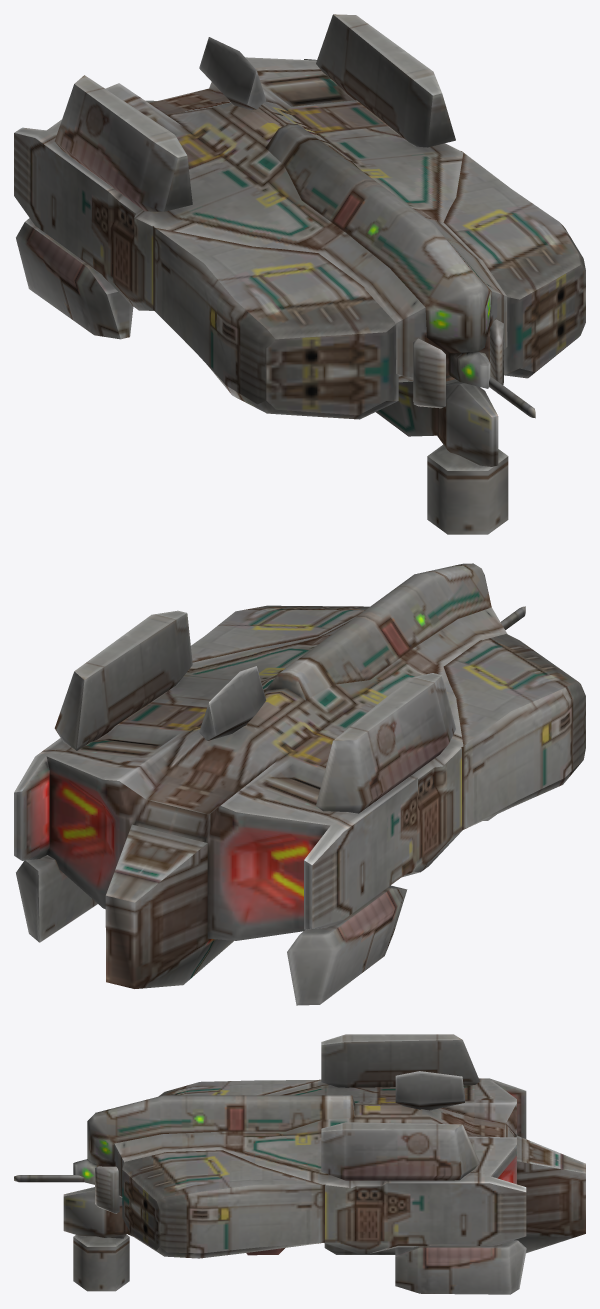
File: tan_sc_miss_01_t2.glb
3 views of the same model, one above another, from view 1: azimuth 30°, elevation 25°; view 2: azimuth 150°, elevation 25°; view 3: azimuth 270°, elevation 25° (orthographic). The views are drawn at different scales.
Parts seen in each view (by area): view 1: Tan_Missile_Corvette_01_LOD0; view 2: Tan_Missile_Corvette_01_LOD0; view 3: Tan_Missile_Corvette_01_LOD0.
Boxes of the visible parts, bbox=[...] form: Tan_Missile_Corvette_01_LOD0: bbox=[14, 14, 585, 534]; Tan_Missile_Corvette_01_LOD0: bbox=[14, 563, 585, 1005]; Tan_Missile_Corvette_01_LOD0: bbox=[14, 1034, 585, 1294].
Size of what is drawn, in the model's own units: 0.3955 by 0.3509 by 0.8297.
Materials: 1 (1 with a texture image).
